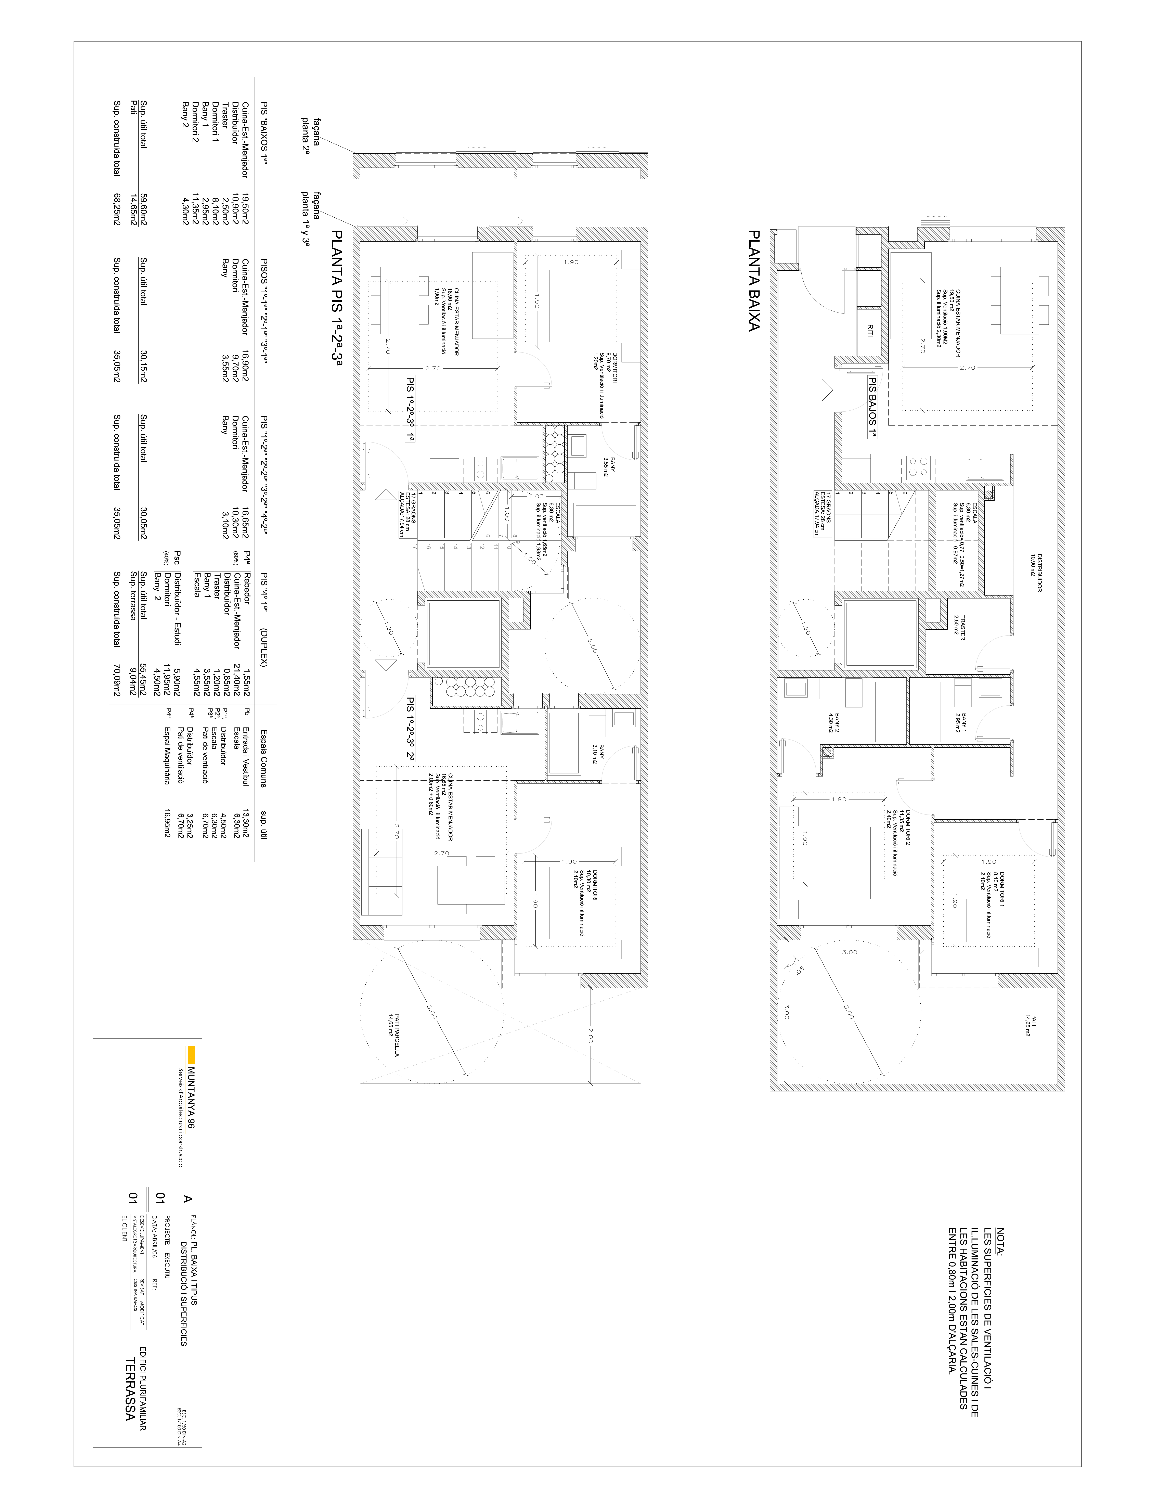door: (359, 442, 411, 492), (361, 675, 411, 719), (598, 421, 641, 461), (512, 817, 553, 856), (599, 745, 641, 784), (513, 351, 552, 390)
